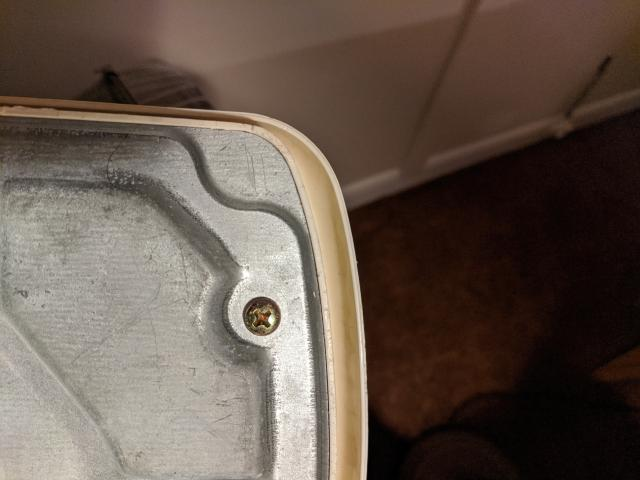CRS: (244, 297, 281, 337)
